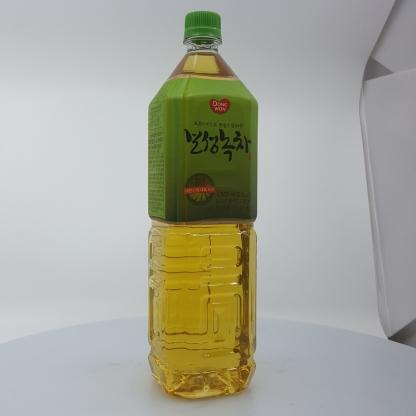------1500ML: (148, 11, 258, 399)
